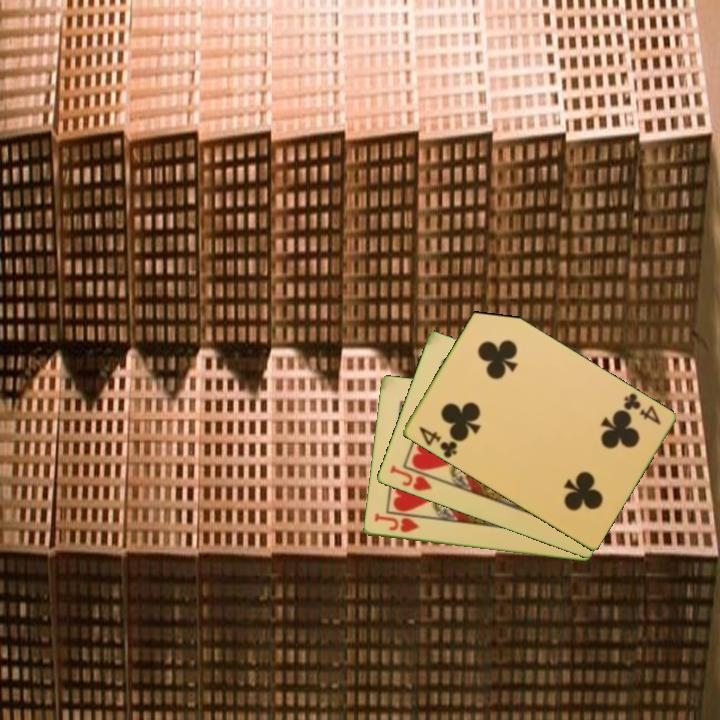4c: (415, 423, 461, 461), (620, 389, 663, 428)
Jh: (386, 462, 441, 494), (370, 510, 422, 536)
